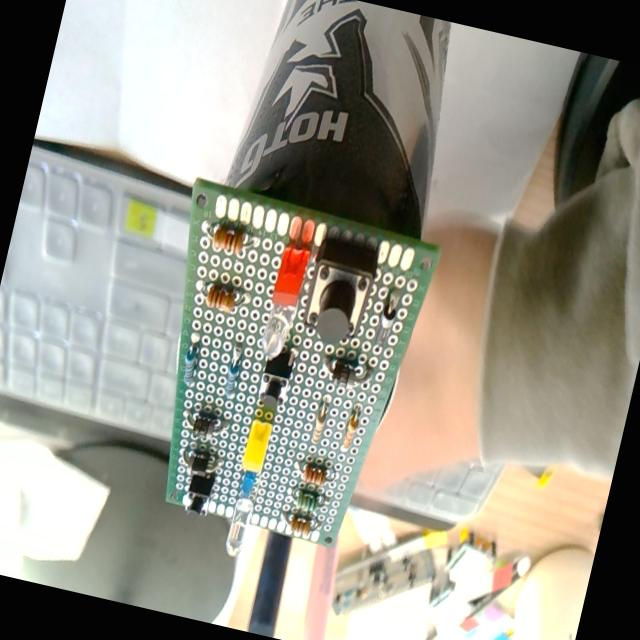diode: (318, 353, 374, 392), (372, 295, 400, 353), (184, 408, 230, 442), (183, 451, 219, 482)
led: (270, 245, 310, 310), (222, 492, 255, 558), (258, 299, 295, 356), (227, 459, 270, 508), (240, 417, 272, 474)
resistor: (221, 344, 245, 399), (211, 224, 245, 257), (179, 343, 202, 388), (205, 284, 237, 314), (309, 401, 329, 446), (340, 408, 360, 452), (301, 462, 327, 487), (294, 490, 318, 516), (288, 516, 312, 539)
switch: (298, 232, 382, 348), (255, 346, 296, 412), (182, 469, 217, 518)
